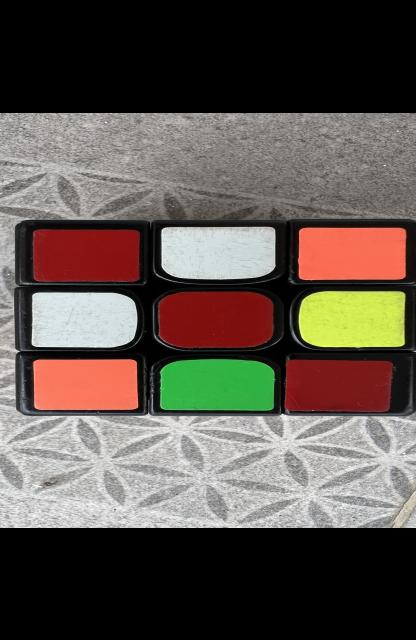Green: (160, 358, 275, 409)
Orange: (298, 227, 406, 279), (33, 358, 138, 409)
Red: (158, 291, 273, 347), (285, 358, 393, 411), (33, 228, 140, 280)
White: (161, 226, 276, 279), (31, 292, 138, 347)
Yellow: (298, 290, 406, 347)
